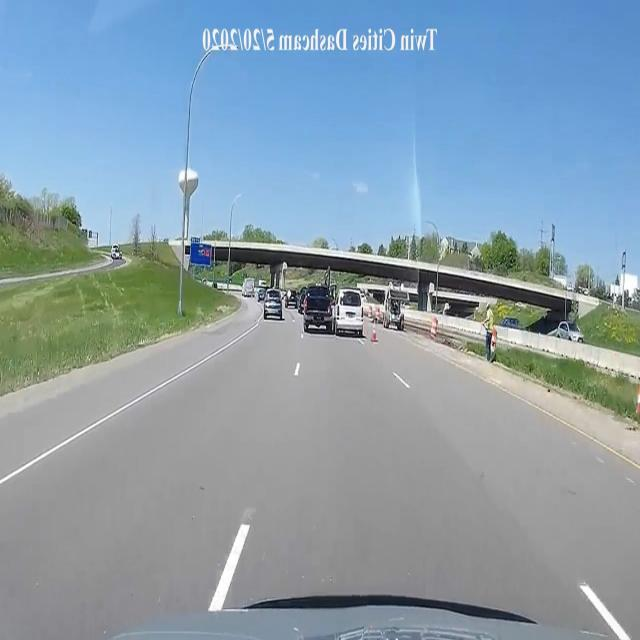cone: (369, 325, 380, 343)
